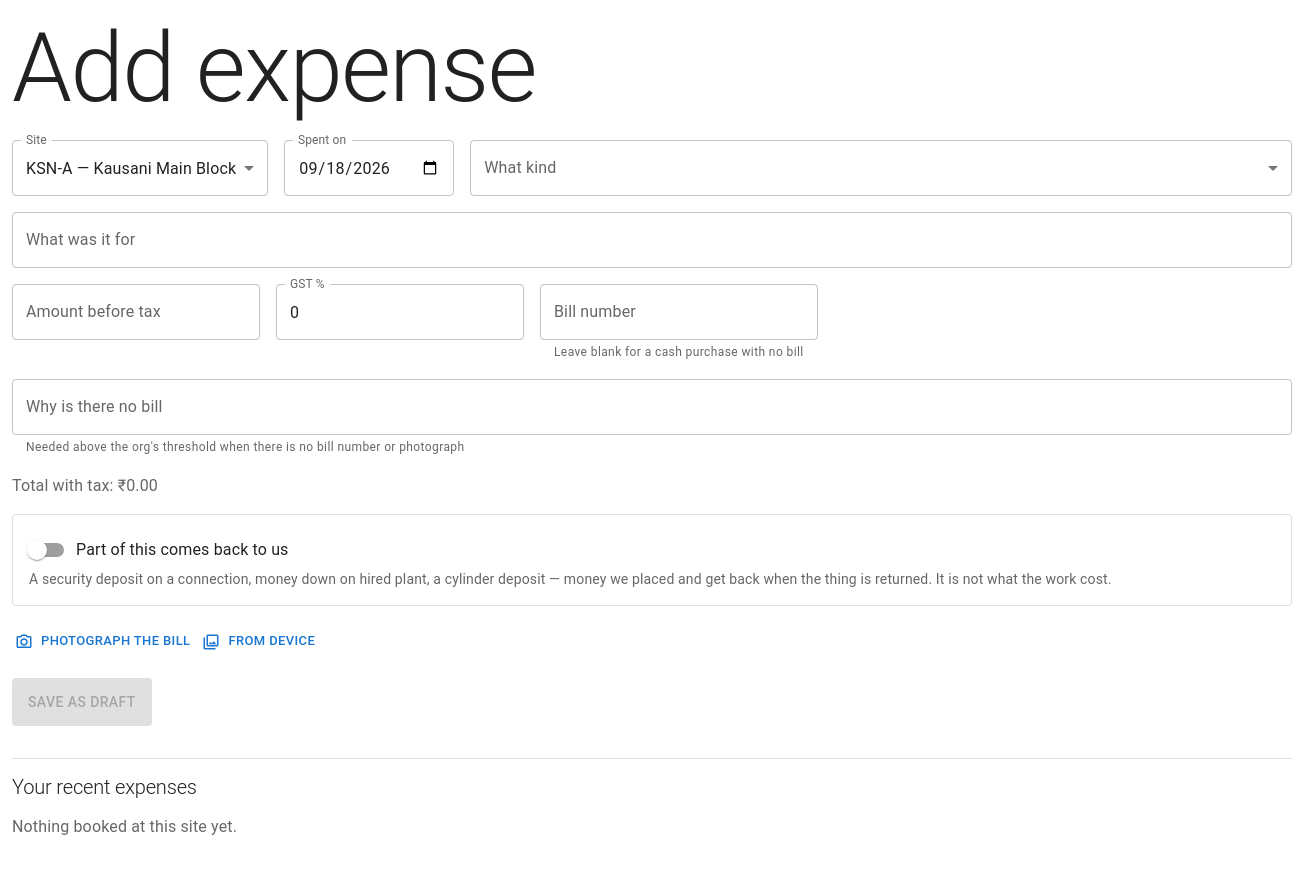
Test case: AddExpensePage — an expense the taxonomy has no head for › does not book the expense when the head could not be opened
The image size is (1304, 893).
Expected: the dropdown named "Site" is shown, [26,158,236,178]
Click the dropdown named "What kind" at (881, 168), box [470,140,1292,196]
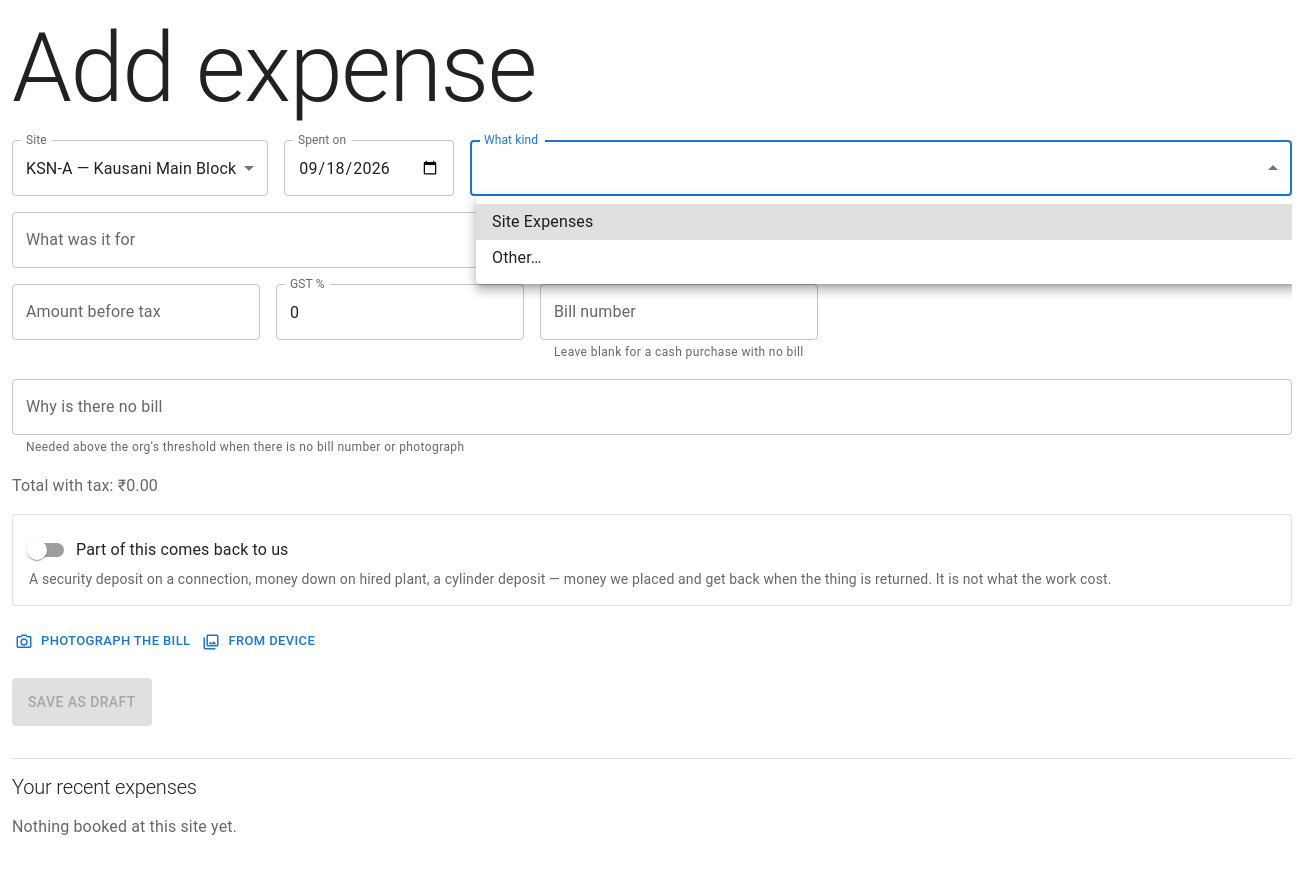
Click the option "Other…" at (517, 258), box [492,248,542,267]
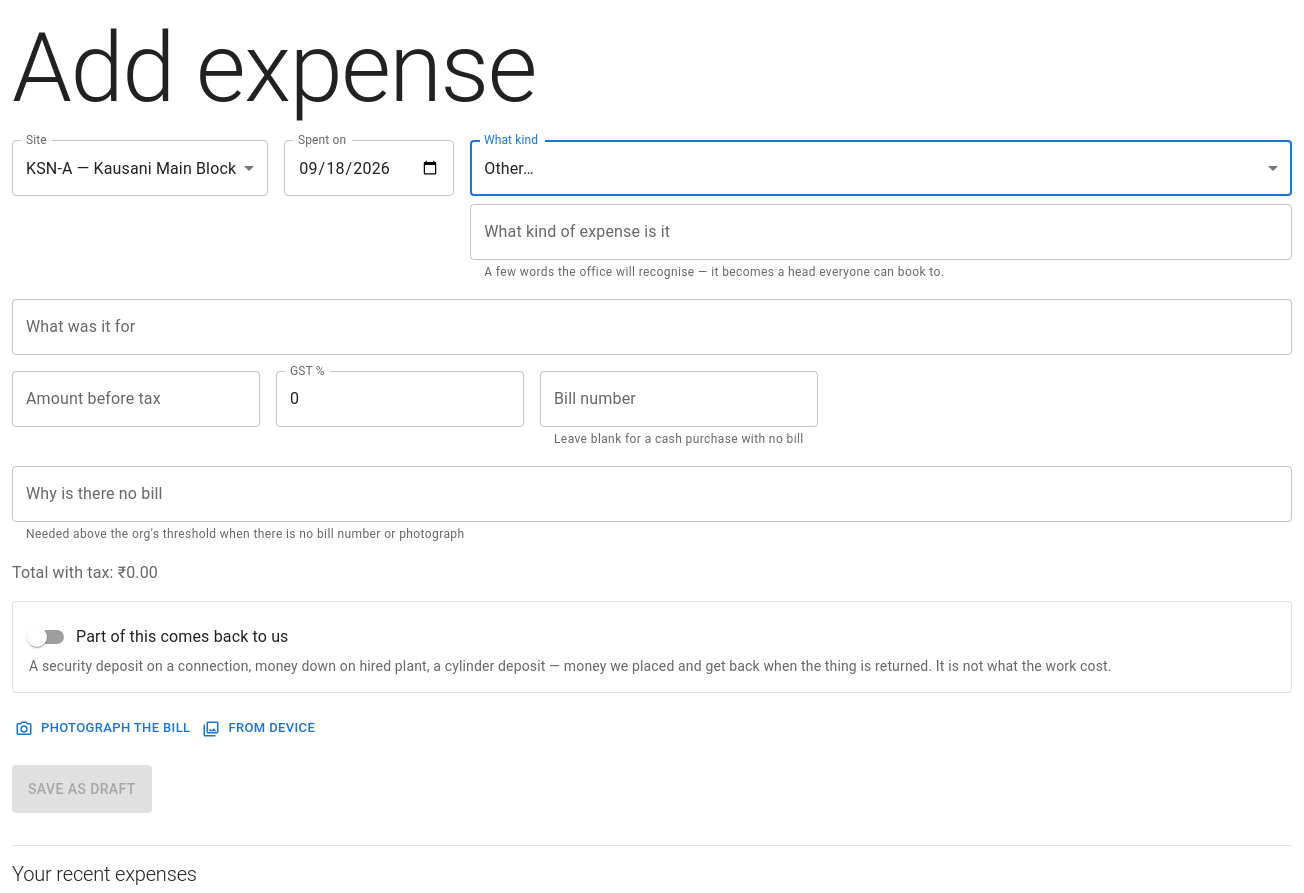
Type "Rat menace control" into the field labelled "What kind of expense is it" at (881, 232), box [470,204,1292,260]
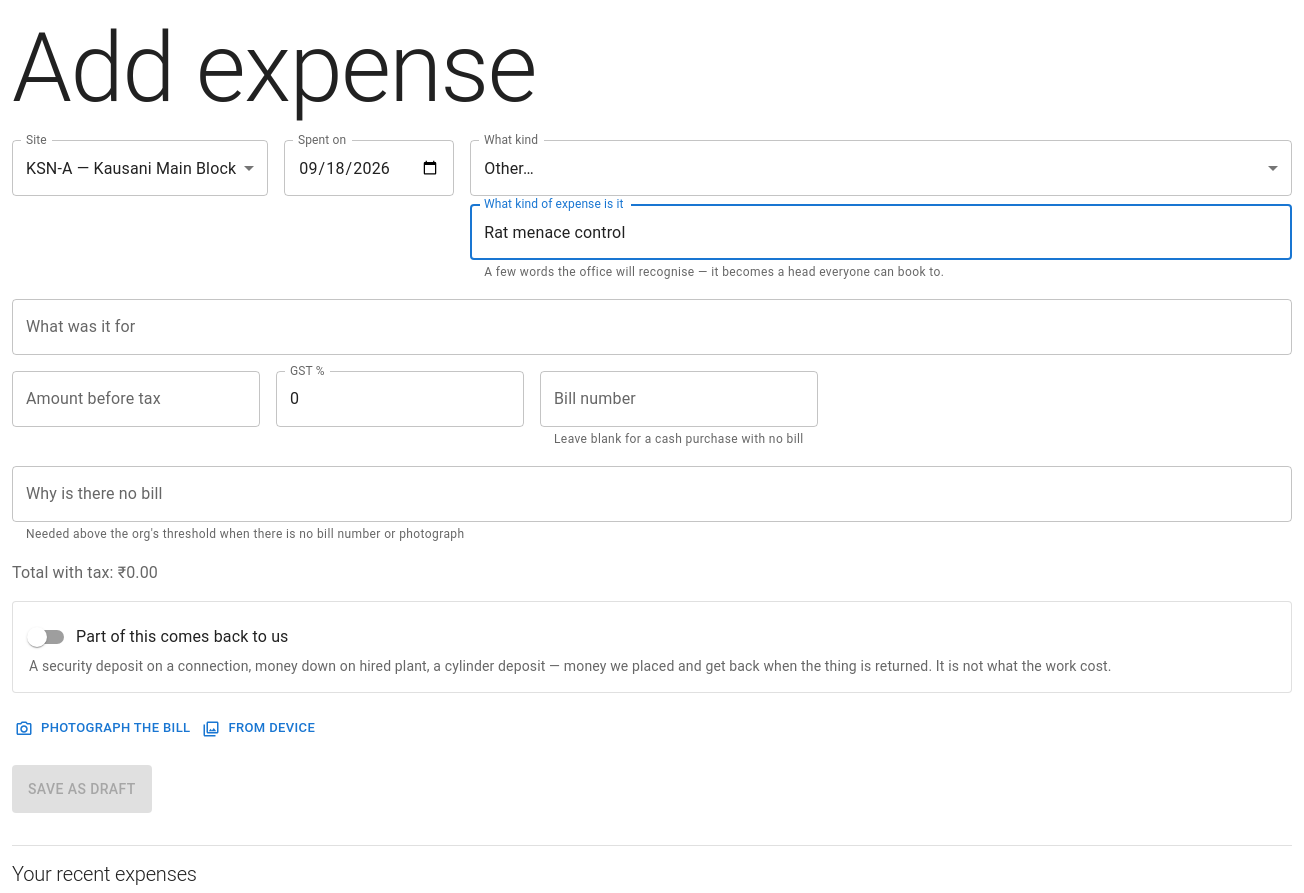
Type "Rat traps" into the field labelled "What was it for" at (652, 327), box [12,299,1292,355]
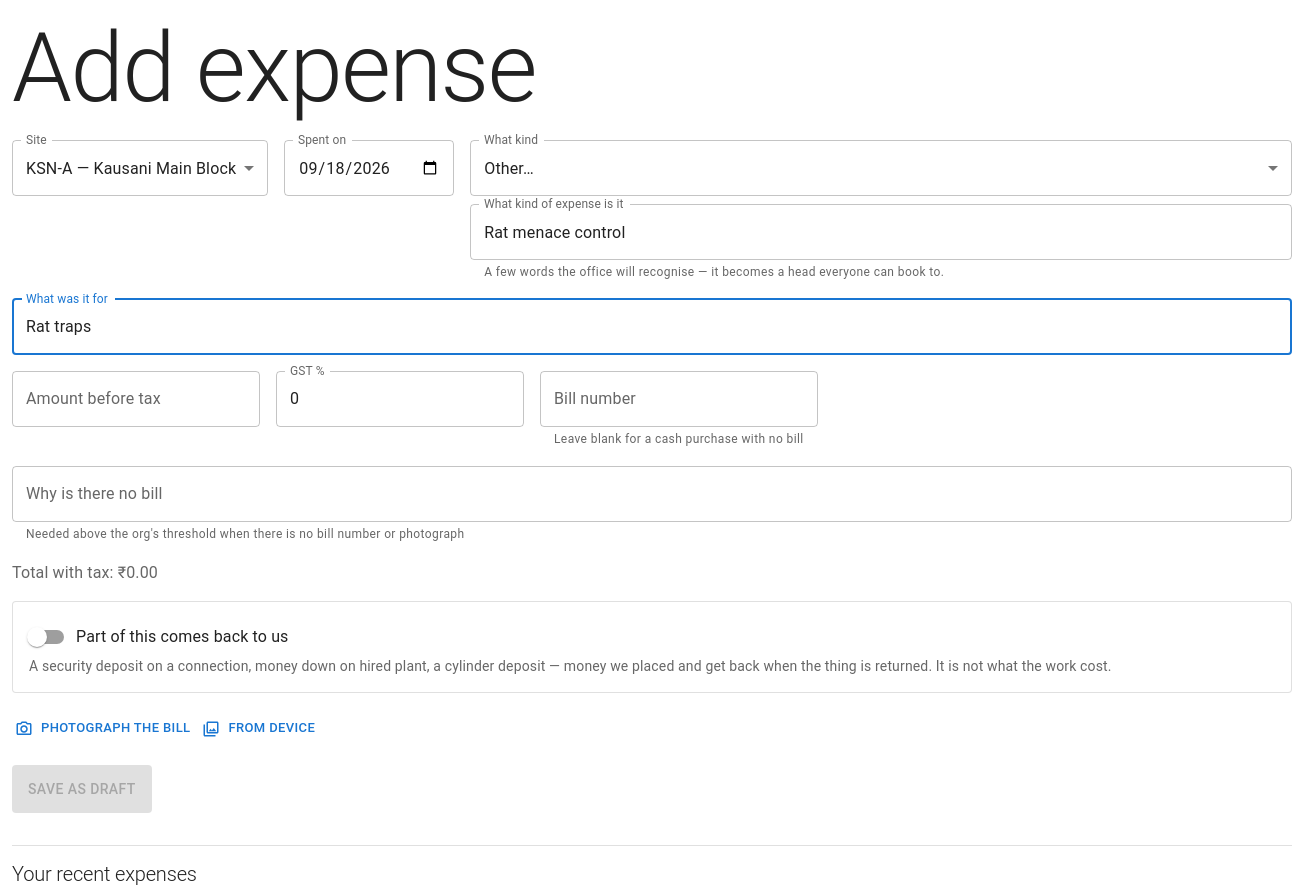
Type "900" into the number field labelled "Amount before tax" at (136, 399), box [12,371,260,427]
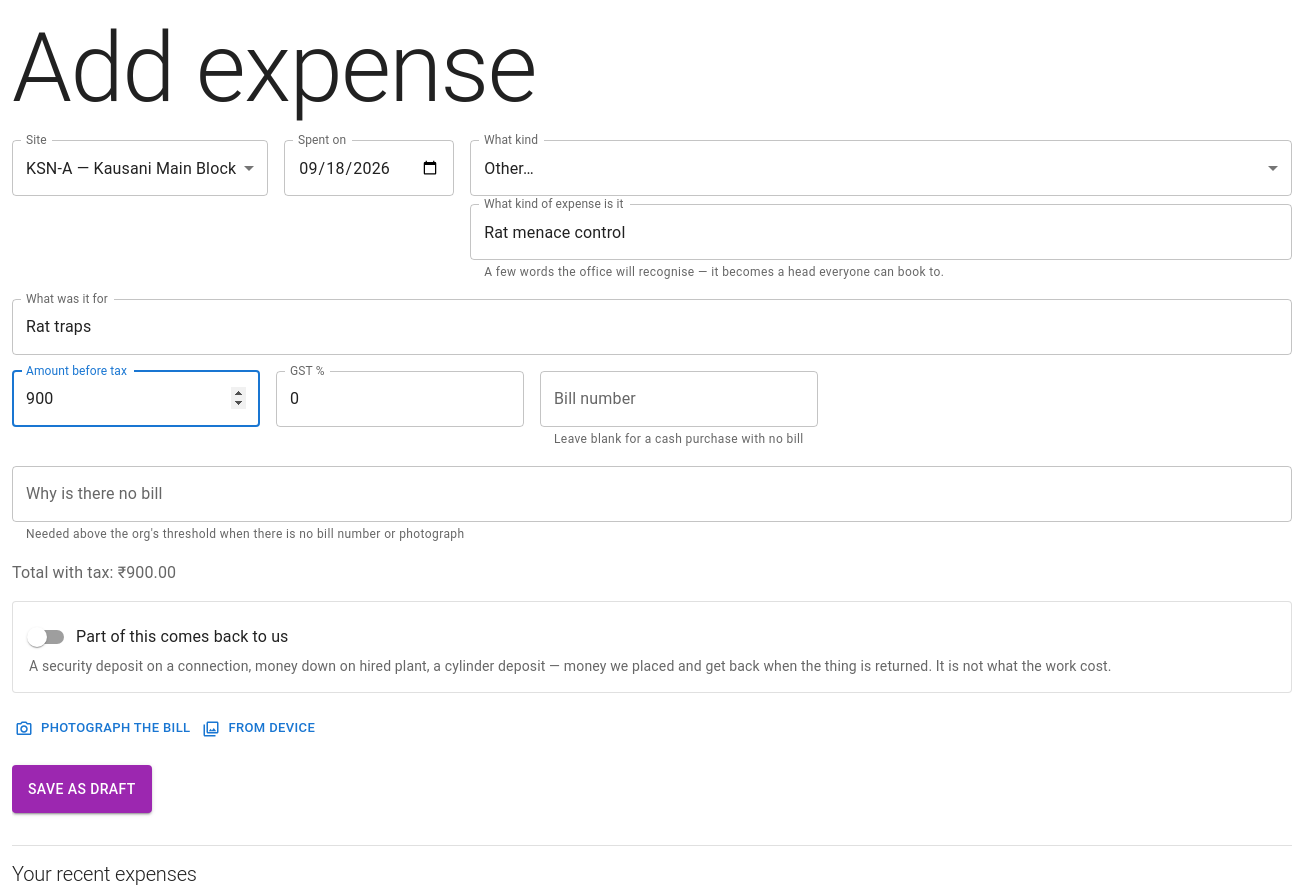
Click the button "Save as draft" at (82, 789), box [12,765,152,813]
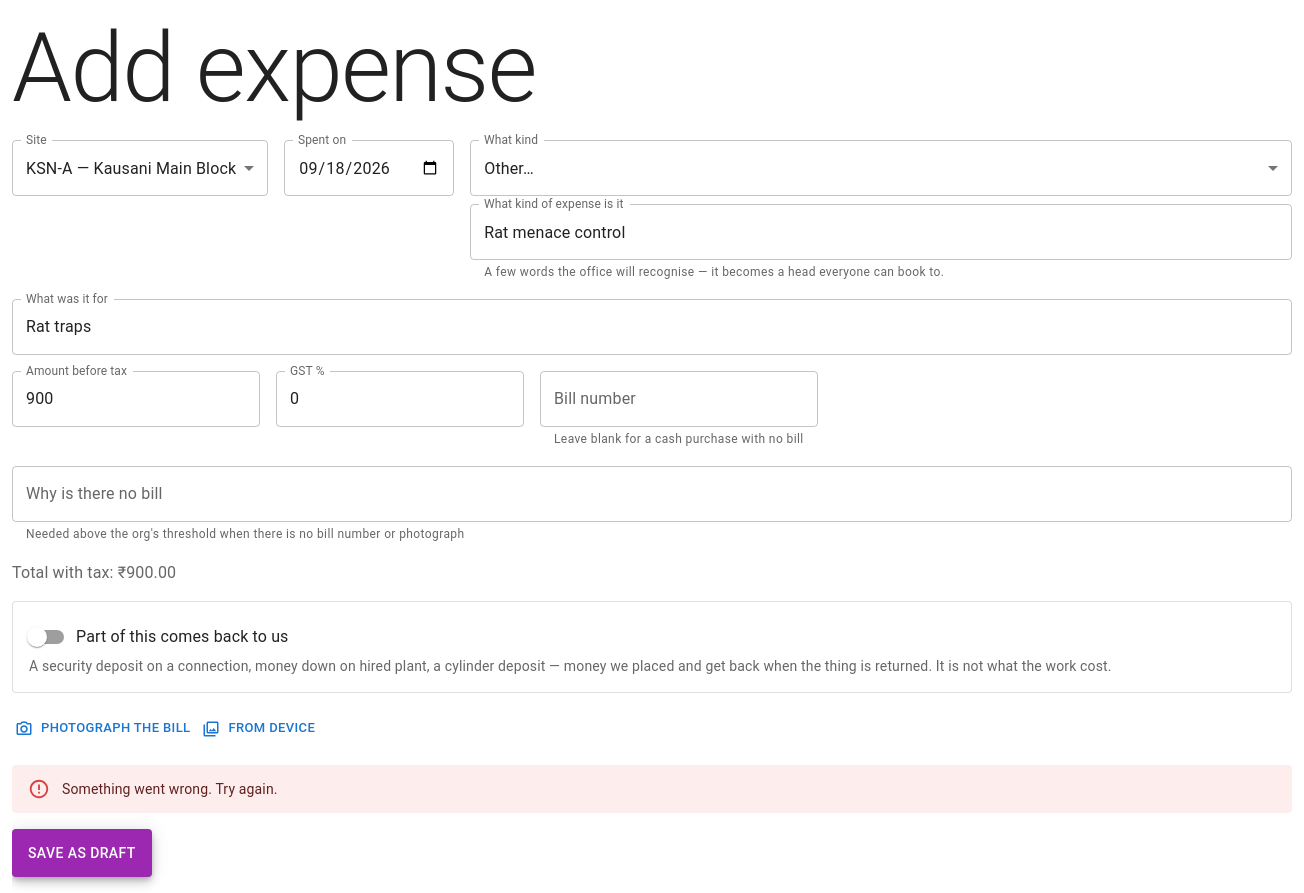
Expected: the message "Something went wrong. Try again." is shown, [12,765,1292,813]
